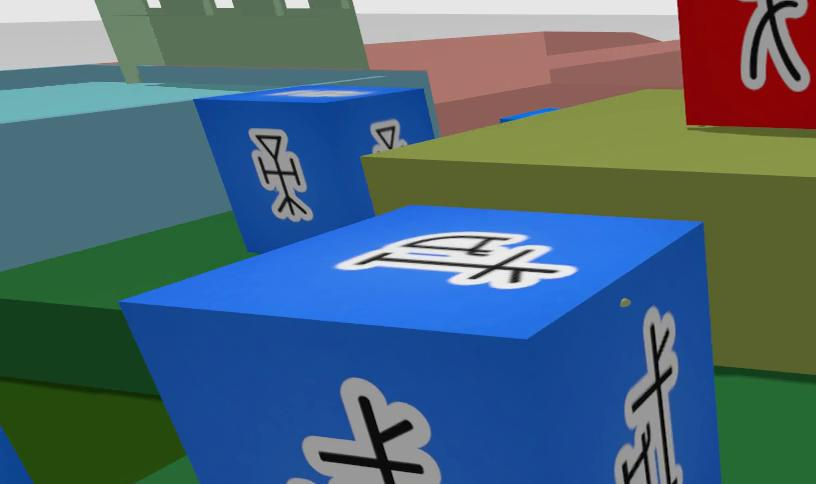KFS_FAKE: (679, 0, 816, 128), (740, 0, 808, 91)
KFS_REAL: (122, 205, 721, 484), (195, 84, 433, 252), (286, 380, 440, 484), (337, 232, 577, 288), (615, 305, 682, 484), (250, 129, 312, 220)
